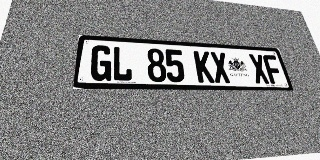5: (165, 49, 186, 82)
8: (147, 48, 167, 82)
F: (262, 55, 285, 84)
G: (90, 45, 112, 81)
K: (193, 51, 215, 83)
L: (112, 46, 132, 81)
X: (209, 52, 231, 83), (248, 54, 270, 84)
